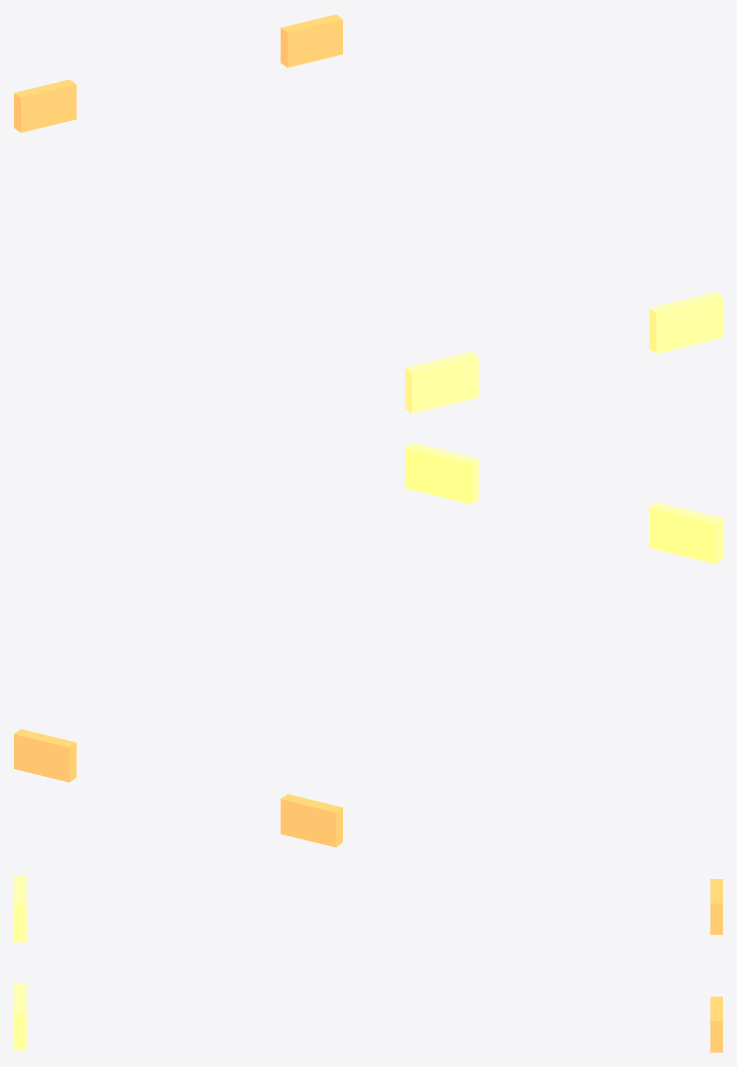
File: Car_Green_Glow.glb
The picture shows the model from 3 angles, top to bottom: view 1: azimuth 30°, elevation 25°; view 2: azimuth 150°, elevation 25°; view 3: azimuth 270°, elevation 25°; orthographic projection. The views are drawn at different scales.
Visible parts, largest first — view 1: Car_Green_Glow; view 2: Car_Green_Glow; view 3: Car_Green_Glow.
Part boxes in pixels (x1=…): Car_Green_Glow: x1=14, y1=14, x2=722, y2=413; Car_Green_Glow: x1=14, y1=442, x2=722, y2=847; Car_Green_Glow: x1=14, y1=876, x2=722, y2=1052.
Bounding box in the file's own units: 5.8 × 0.7 × 12.24.
